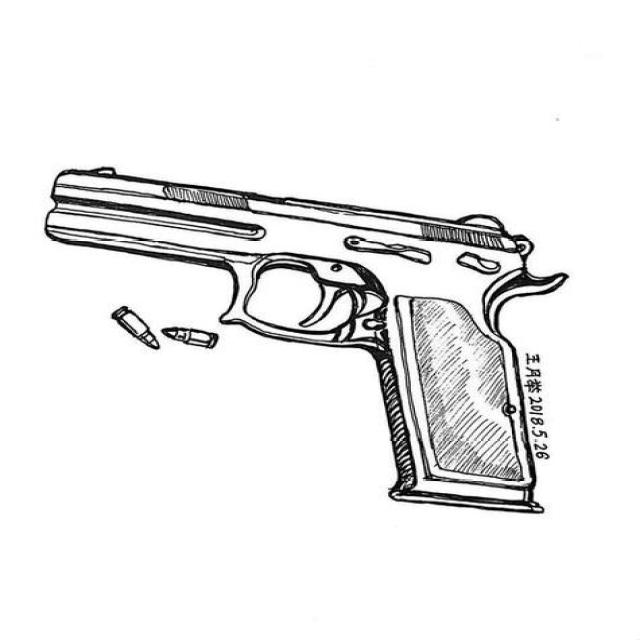gun: (43, 165, 567, 512)
